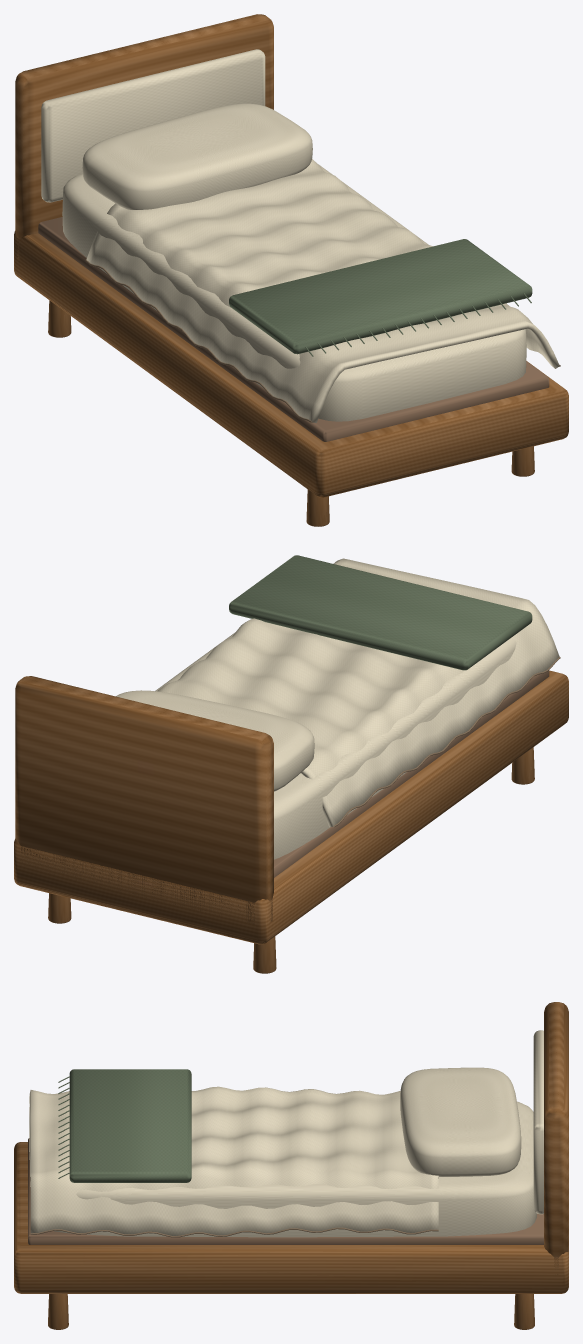
The model's file is bed-single.glb.
The picture shows the model from 3 angles, top to bottom: view 1: azimuth 30°, elevation 25°; view 2: azimuth 150°, elevation 25°; view 3: azimuth 270°, elevation 25°; orthographic projection. The views are drawn at different scales.
Visible parts, largest first — view 1: bed-single-mesh; view 2: bed-single-mesh; view 3: bed-single-mesh.
Boxes of the visible parts, bbox=[...] form: bed-single-mesh: bbox=[14, 14, 568, 526]; bed-single-mesh: bbox=[14, 555, 568, 973]; bed-single-mesh: bbox=[14, 1002, 568, 1329].
Bounding box in the file's own units: 0.95 × 0.9 × 2.
5 materials, 4 textured.
